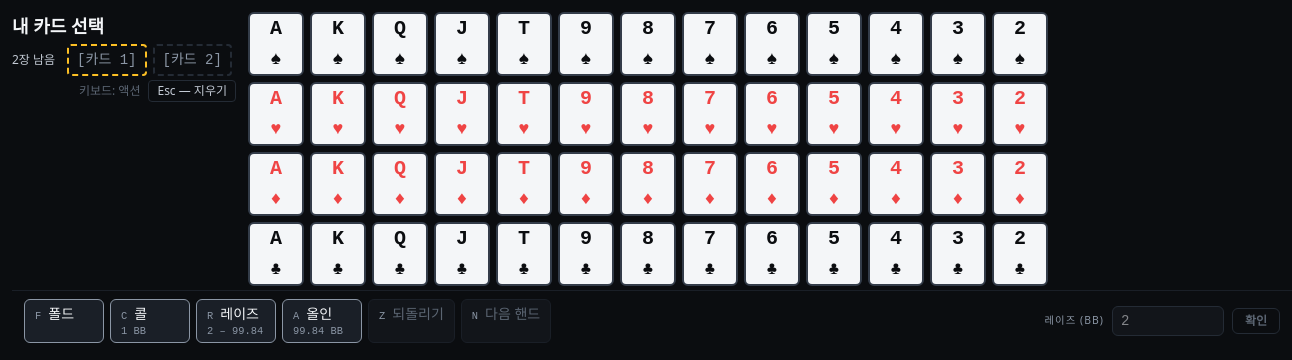
Test case: CardPalette — hero hole cards › makes a duplicate impossible inside one unsubmitted selection
This screenshot has width=1292, height=360.
Click the button with test id "palette-As". click: point(276, 44)
box: left=248, top=12, right=304, bottom=76
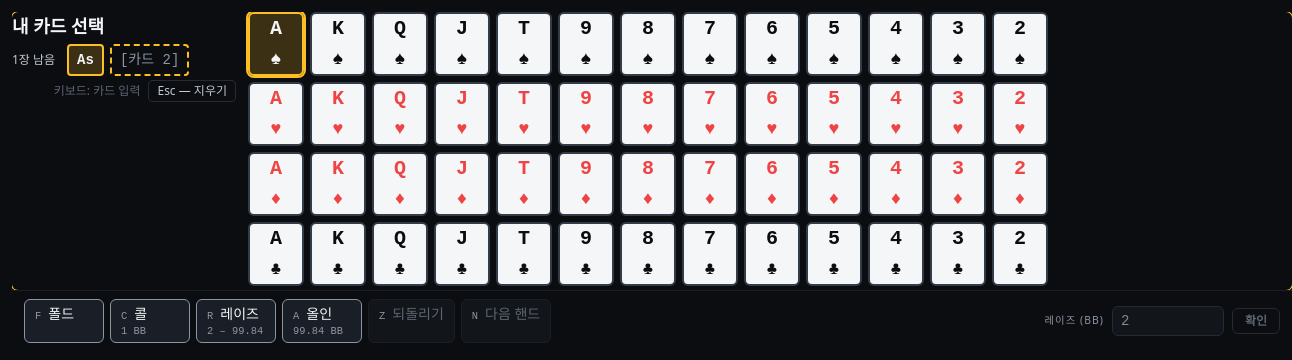
Check: the element with test id "card-palette" has attribute data-needed="1"
Click the button with test id "palette-As". click: point(276, 44)
box: left=248, top=12, right=304, bottom=76
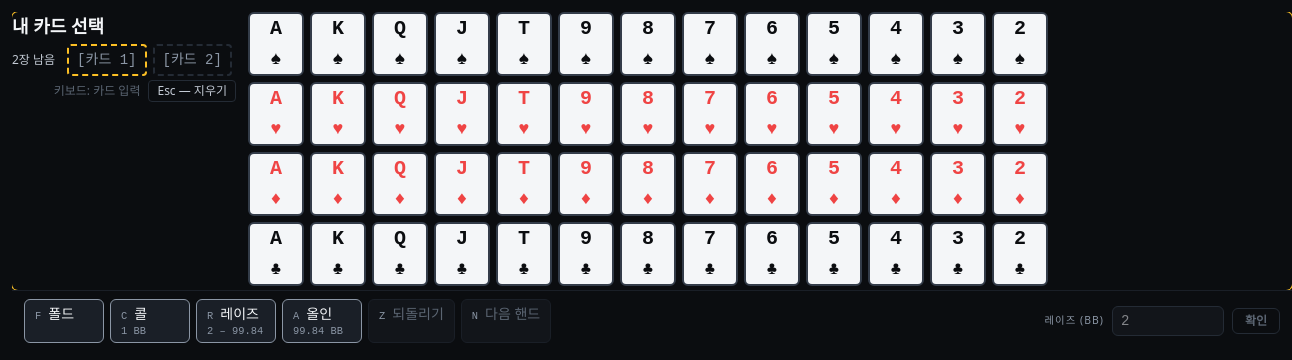
Check: the button with test id "pick-As" is gone
